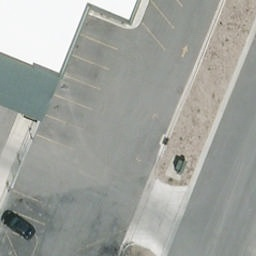car: (0, 210, 35, 241)
